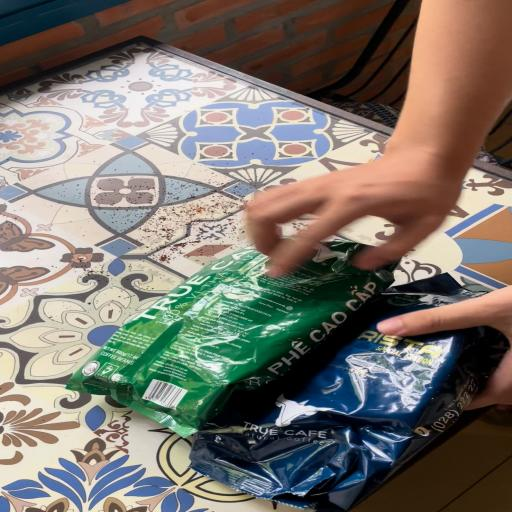cafe_hat: (189, 274, 508, 512)
cafe_xay: (67, 239, 395, 437)
